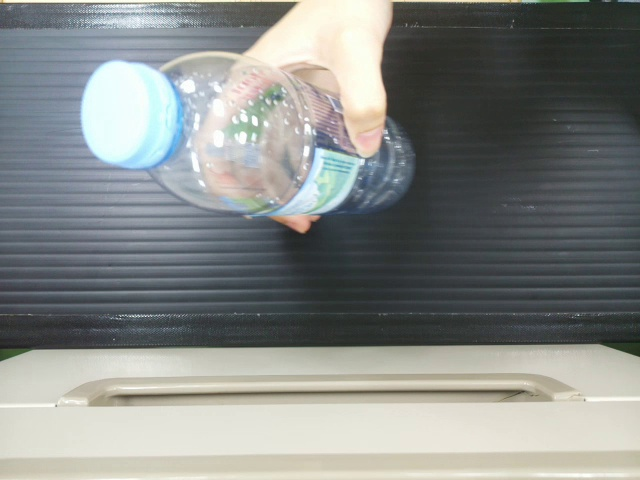bottle: (74, 38, 421, 220)
